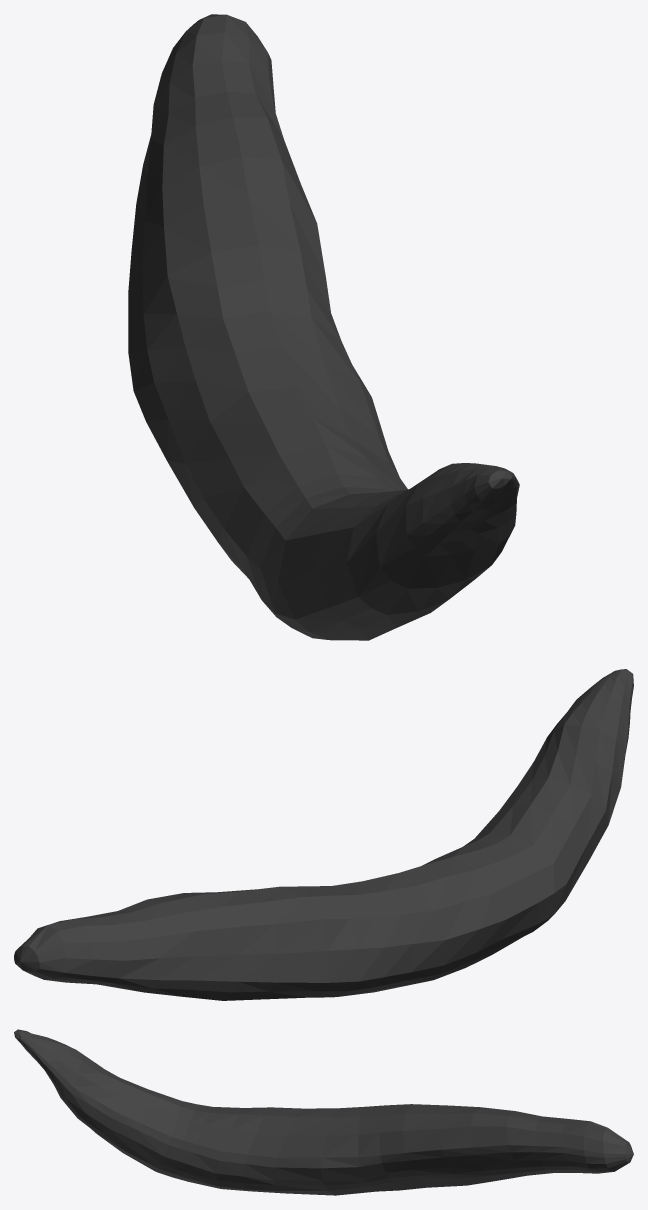
The model's file is PronatTeres_1.glb.
3 views of the same model, one above another, from view 1: azimuth 30°, elevation 25°; view 2: azimuth 150°, elevation 25°; view 3: azimuth 270°, elevation 25° (orthographic). The views are drawn at different scales.
Visible parts, largest first — view 1: PronatTeres_1; view 2: PronatTeres_1; view 3: PronatTeres_1.
Boxes of the visible parts, x1,y1,x2,y2 form: PronatTeres_1: [128, 14, 519, 640]; PronatTeres_1: [14, 669, 633, 1000]; PronatTeres_1: [14, 1029, 633, 1195].
Bounding box in the file's own units: 0.00629 × 0.00436 × 0.0163.
Materials: 1 (1 with a texture image).
